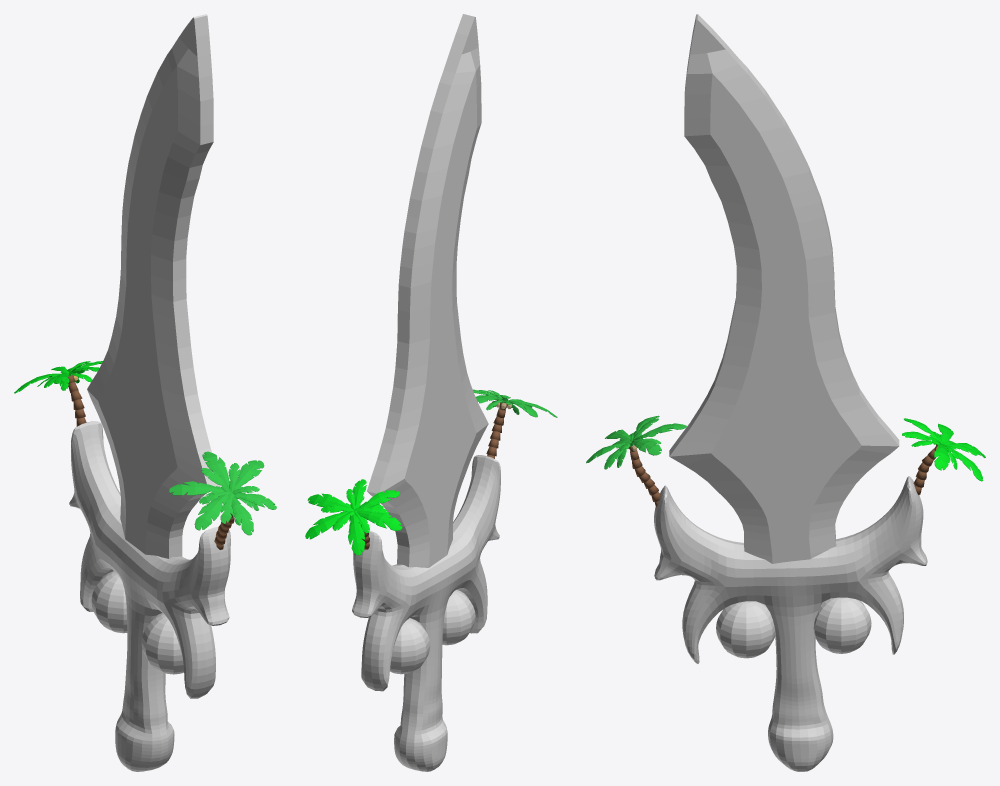
Rendered from Santy-Model3D-WaterSword.fbx.
3 renders of one model, left to right at view 1: azimuth 30°, elevation 25°; view 2: azimuth 150°, elevation 25°; view 3: azimuth 270°, elevation 25°, orthographic. The views are drawn at different scales.
Parts seen in each view (by area): view 1: Filo, Mango, Palm2, BeachBall2, BeachBall, Plam; view 2: Filo, Mango, Plam, BeachBall, BeachBall2, Palm2; view 3: Filo, Mango, BeachBall2, BeachBall, Palm2, Plam.
Part boxes in pixels (x1,y1,x2,y2): Filo: (87,14,221,558); Mango: (69,421,230,771); Palm2: (169,451,276,549); BeachBall2: (141,613,183,674); BeachBall: (91,571,127,633); Plam: (14,361,102,426); Filo: (367,14,488,567); Mango: (352,455,500,771); Plam: (305,479,402,555); BeachBall: (390,618,430,674); BeachBall2: (442,589,475,645); Palm2: (473,389,557,458); Filo: (669,14,899,563); Mango: (654,476,927,771); BeachBall2: (716,601,775,658); BeachBall: (813,597,871,653); Palm2: (586,415,686,507); Plam: (902,418,985,494).
Bounding box in the file's own units: 95.65 × 682 × 329.
